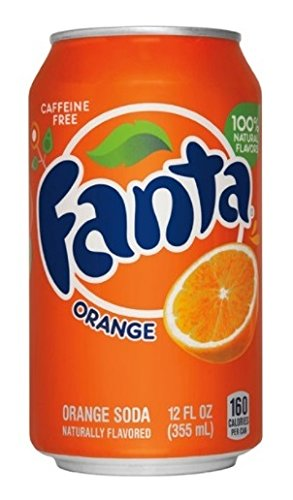Fanta: (14, 20, 278, 483)
